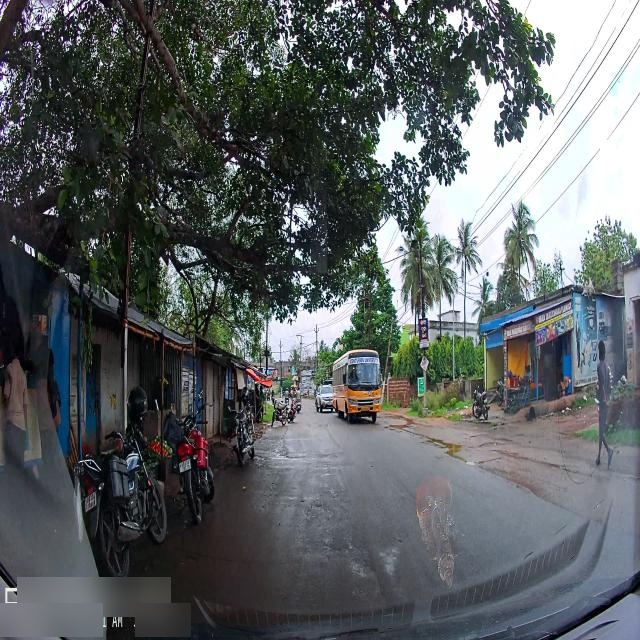pothole: (302, 490, 332, 514), (345, 560, 373, 581), (382, 549, 402, 577), (321, 534, 335, 560)
